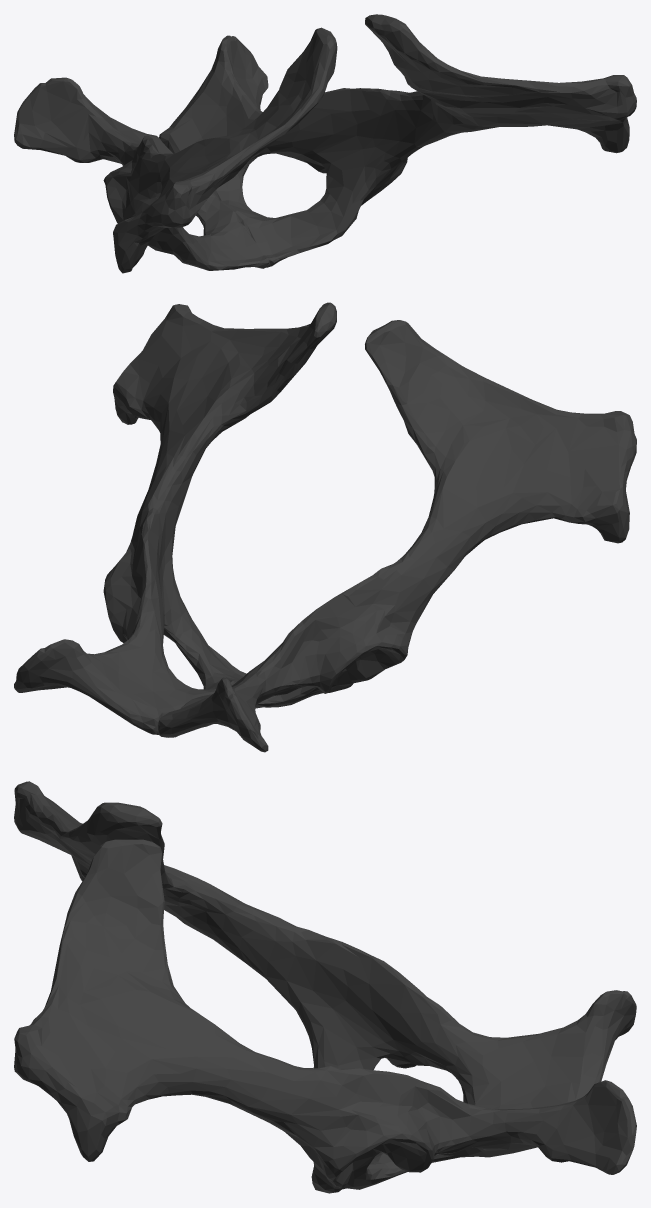
The model's file is skel_pelvis.glb.
The picture shows the model from 3 angles, top to bottom: view 1: azimuth 30°, elevation 25°; view 2: azimuth 150°, elevation 25°; view 3: azimuth 270°, elevation 25°; orthographic projection. The views are drawn at different scales.
Visible parts, largest first — view 1: skel_pelvis; view 2: skel_pelvis; view 3: skel_pelvis.
Boxes of the visible parts, left/top/right/bottom form: skel_pelvis: left=14, top=14, right=636, bottom=273; skel_pelvis: left=14, top=302, right=636, bottom=752; skel_pelvis: left=14, top=781, right=636, bottom=1193.
Bounding box in the file's own units: 0.00827 × 0.00487 × 0.00767.
Materials: 1 (1 with a texture image).
